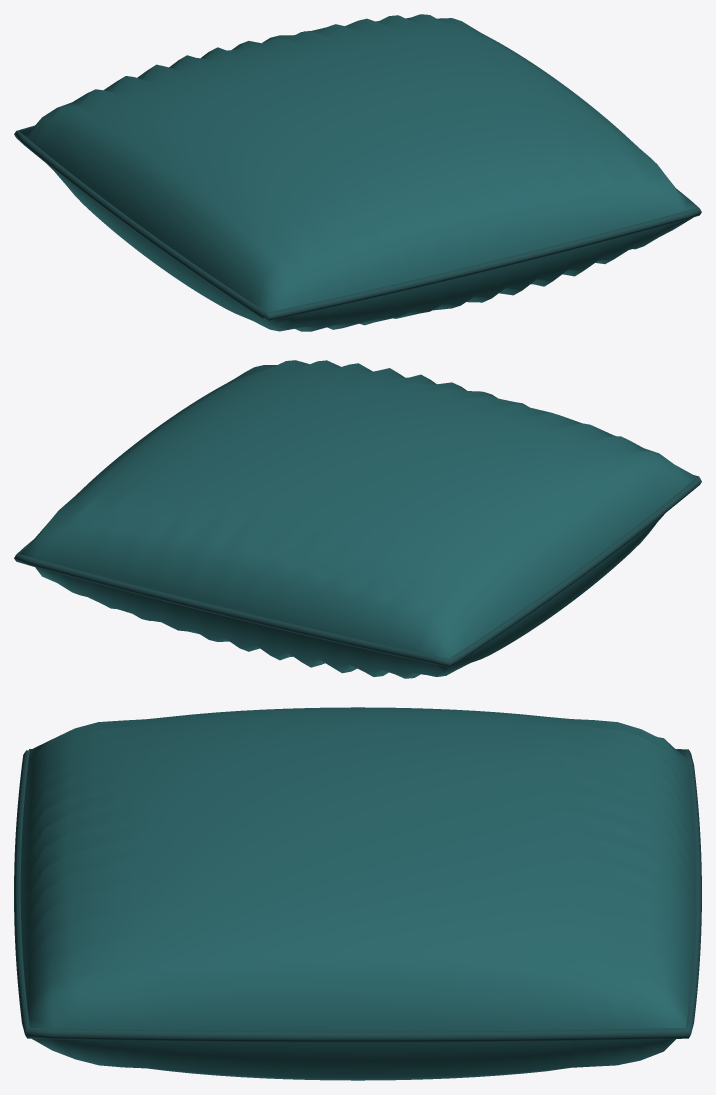
Rendered from ThrowPillowLOD0.fbx.
The picture shows the model from 3 angles, top to bottom: view 1: azimuth 30°, elevation 25°; view 2: azimuth 150°, elevation 25°; view 3: azimuth 270°, elevation 25°; orthographic projection. The views are drawn at different scales.
Parts seen in each view (by area): view 1: ThrowPillow; view 2: ThrowPillow; view 3: ThrowPillow.
Boxes of the visible parts, x1,y1,x2,y2 form: ThrowPillow: (14,14,701,331); ThrowPillow: (14,360,701,678); ThrowPillow: (14,707,701,1080).
Size of the model in its own units: 51.37 by 17 by 51.37.
